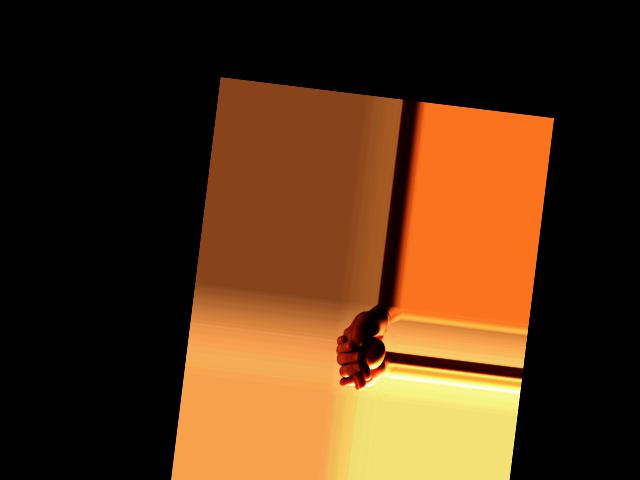egg: (360, 335, 387, 370)
